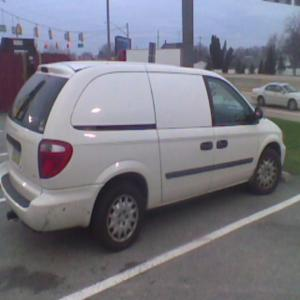Vehicle-registration-plate: (13, 146, 21, 164)
